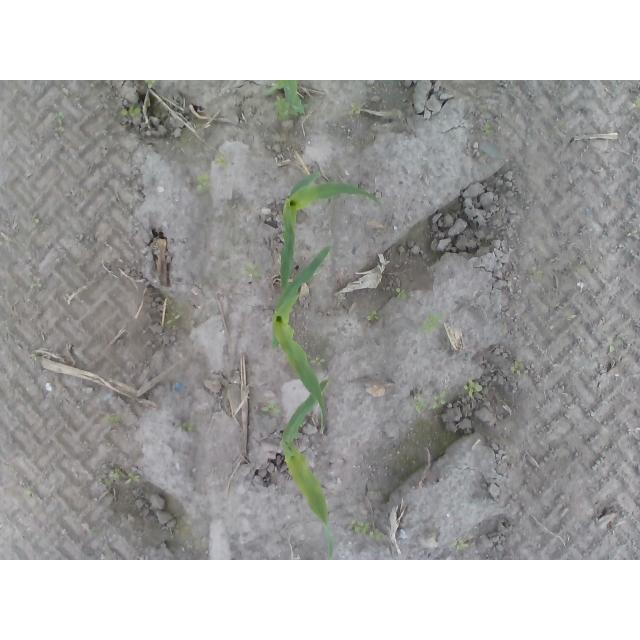Maize: (271, 246, 336, 435), (279, 170, 374, 290), (280, 377, 337, 560), (265, 81, 303, 115)
Weeds: (349, 520, 387, 541), (421, 309, 447, 338), (412, 391, 448, 409), (257, 403, 284, 418), (241, 263, 263, 278), (463, 379, 481, 397), (608, 334, 625, 353), (308, 353, 328, 368), (121, 105, 143, 118), (49, 111, 66, 127), (391, 288, 409, 303), (274, 96, 287, 116), (197, 174, 210, 193), (125, 471, 142, 485), (349, 102, 364, 116), (509, 360, 523, 374), (367, 310, 382, 323), (481, 126, 497, 136), (451, 541, 465, 552), (180, 422, 194, 433), (214, 155, 226, 166), (31, 212, 42, 224), (109, 470, 120, 481), (145, 80, 156, 89), (634, 96, 640, 109)
